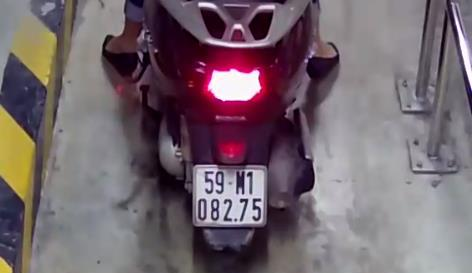lisence: (193, 164, 268, 227)
